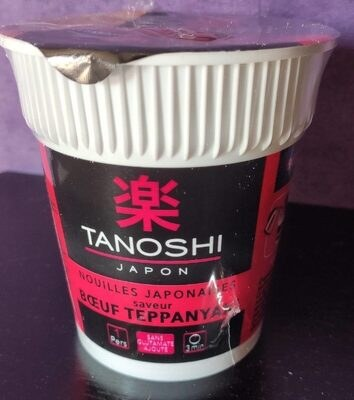Nouilles japonaises saveur boeuf teppanyaki: (18, 20, 336, 380)
